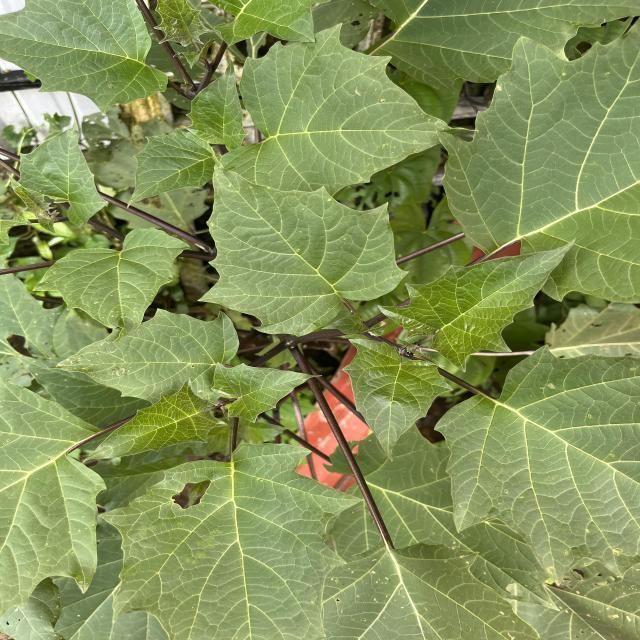Datura metal linn: (97, 440, 367, 640), (218, 20, 481, 196), (195, 144, 411, 338), (376, 236, 582, 375), (39, 304, 241, 404), (30, 224, 194, 345), (340, 333, 455, 465), (80, 372, 230, 466), (124, 126, 215, 210), (210, 358, 324, 425), (184, 56, 252, 152)
